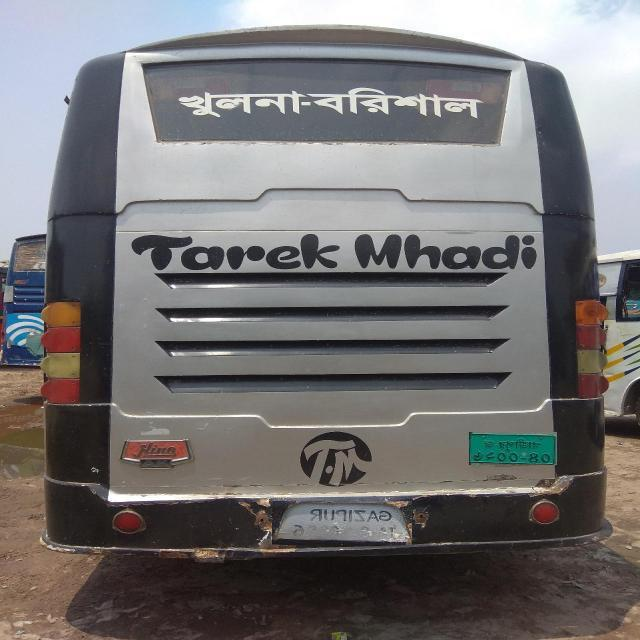numberplate: (272, 501, 412, 545), (469, 432, 557, 465)
